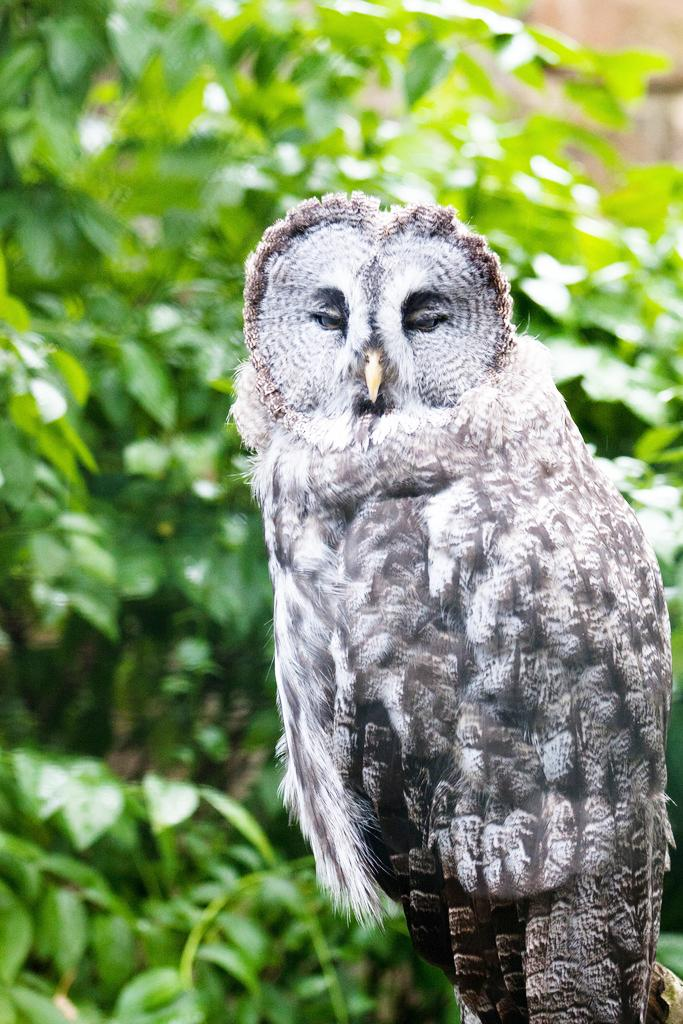Owl: (234, 195, 644, 942)
